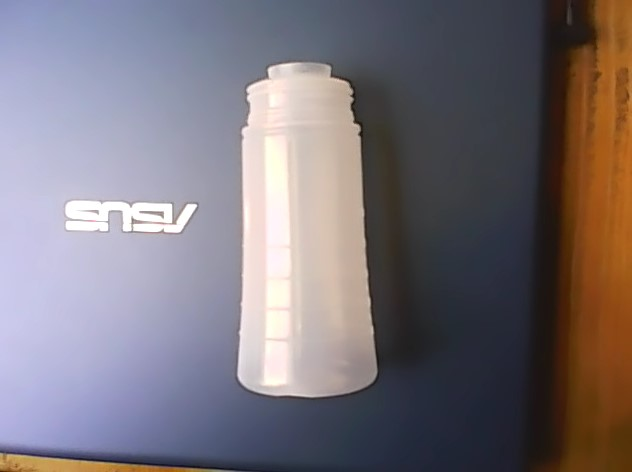Plastic: (233, 61, 380, 403)
